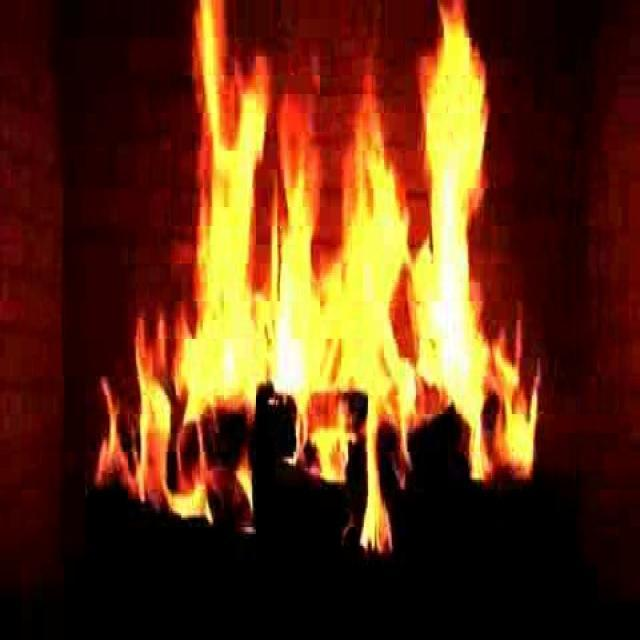Fire: (188, 16, 494, 513)
